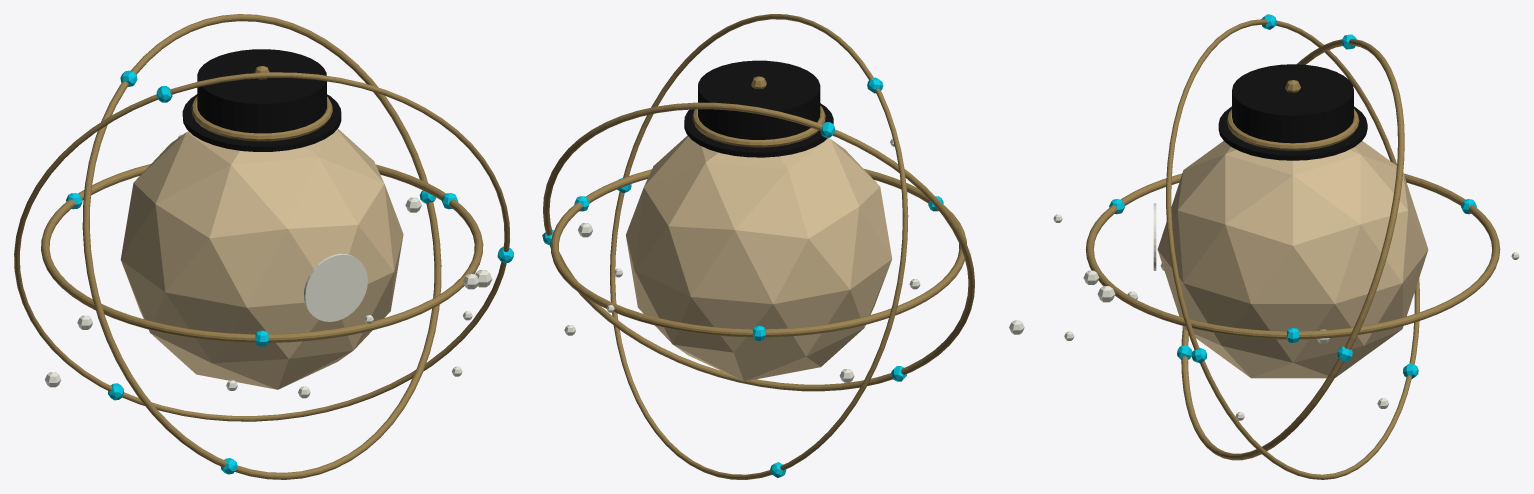
File: pete_spirit_crystal.obj
The picture shows the model from 3 angles, left to right: view 1: azimuth 30°, elevation 25°; view 2: azimuth 150°, elevation 25°; view 3: azimuth 270°, elevation 25°; orthographic projection. The views are drawn at different scales.
Parts seen in each view (by area): view 1: PeteCrystal, PeteOrbit2, PeteCapBody, PeteOrbit3, PeteOrbit1, PeteInsignia, PeteCapBrim, PeteCapBand; view 2: PeteCrystal, PeteCapBody, PeteOrbit2, PeteOrbit3, PeteOrbit1, PeteCapBrim, PeteCapBand; view 3: PeteCrystal, PeteCapBody, PeteOrbit1, PeteOrbit3, PeteOrbit2, PeteCapBrim, PeteCapBand.
Boxes of the visible parts, <box> form: PeteCrystal: <box>120,129,403,389</box>; PeteOrbit2: <box>82,14,441,479</box>; PeteCapBody: <box>197,49,326,133</box>; PeteOrbit3: <box>14,72,509,421</box>; PeteOrbit1: <box>41,164,483,342</box>; PeteInsignia: <box>304,253,367,321</box>; PeteCapBrim: <box>182,94,341,151</box>; PeteCapBand: <box>191,96,332,141</box>; PeteCrystal: <box>626,135,892,381</box>; PeteCapBody: <box>698,60,820,139</box>; PeteOrbit2: <box>543,102,974,391</box>; PeteOrbit3: <box>610,14,908,479</box>; PeteOrbit1: <box>550,169,966,337</box>; PeteCapBrim: <box>684,103,833,157</box>; PeteCapBand: <box>692,105,825,147</box>; PeteCrystal: <box>1157,141,1428,378</box>; PeteCapBody: <box>1232,64,1353,143</box>; PeteOrbit1: <box>1085,173,1500,339</box>; PeteOrbit3: <box>1166,19,1419,479</box>; PeteOrbit2: <box>1181,39,1404,460</box>; PeteCapBrim: <box>1218,106,1367,160</box>; PeteCapBand: <box>1226,109,1359,150</box>.
Size of the model in its own units: 3.58 by 3.22 by 3.44.
